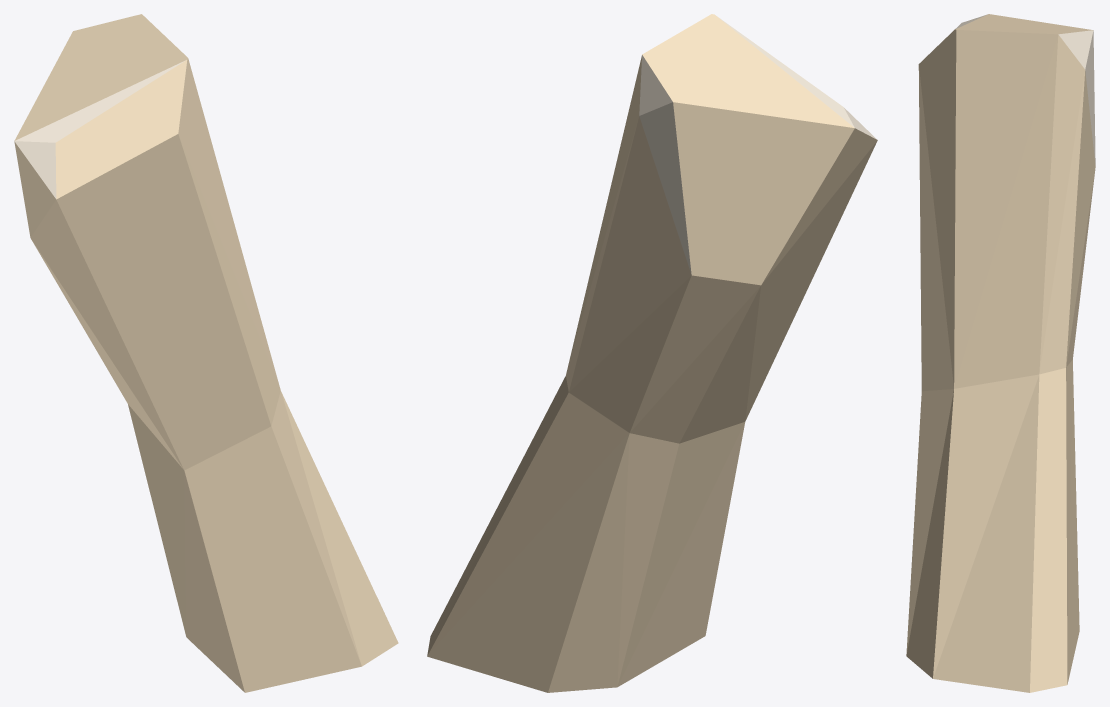
File: desert_rock_10.fbx
The picture shows the model from 3 angles, left to right: view 1: azimuth 30°, elevation 25°; view 2: azimuth 150°, elevation 25°; view 3: azimuth 270°, elevation 25°; orthographic projection. The views are drawn at different scales.
Parts seen in each view (by area): view 1: desert_rock_10; view 2: desert_rock_10; view 3: desert_rock_10.
Boxes of the visible parts, x1=… form: desert_rock_10: x1=14, y1=14, x2=398, y2=692; desert_rock_10: x1=427, y1=14, x2=877, y2=692; desert_rock_10: x1=906, y1=14, x2=1095, y2=692.
Bounding box in the file's own units: 143 × 222 × 67.71.
